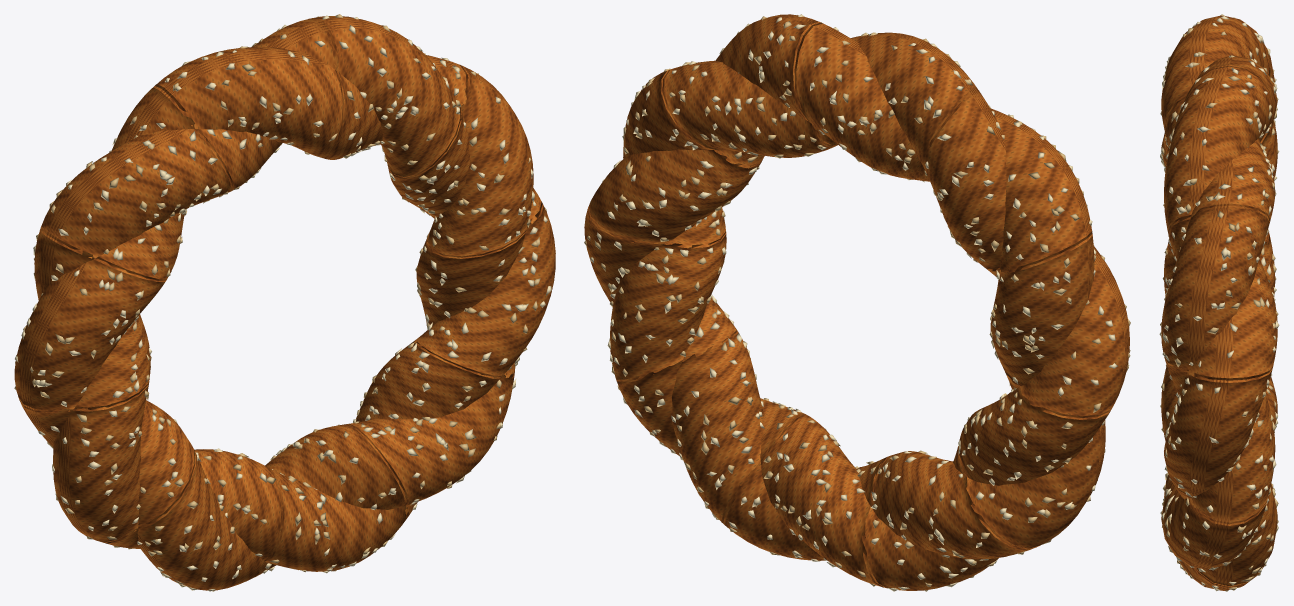
The model's file is simit.glb.
The picture shows the model from 3 angles, left to right: view 1: azimuth 30°, elevation 25°; view 2: azimuth 150°, elevation 25°; view 3: azimuth 270°, elevation 25°; orthographic projection. The views are drawn at different scales.
Parts seen in each view (by area): view 1: SimitSeg_5, SimitSeg_4, SimitSeg_6, SimitSeg_7, SimitSeg_0, SimitSeg_3, SimitSeg_9, SimitSeg_2, SimitSeg_1, SimitSeg_8; view 2: SimitSeg_5, SimitSeg_6, SimitSeg_4, SimitSeg_7, SimitSeg_0, SimitSeg_3, SimitSeg_9, SimitSeg_2, SimitSeg_1, SimitSeg_8; view 3: SimitSeg_2, SimitSeg_3, SimitSeg_1, SimitSeg_0, SimitSeg_4, SimitSeg_8, SimitSeg_7, SimitSeg_6, SimitSeg_9, SimitSeg_5.
Part boxes in pixels (x1,y1,x2,y2): SimitSeg_5: [40, 84, 233, 281]; SimitSeg_4: [151, 18, 345, 191]; SimitSeg_6: [14, 225, 166, 413]; SimitSeg_7: [18, 376, 195, 543]; SimitSeg_0: [347, 339, 516, 518]; SimitSeg_3: [309, 14, 470, 179]; SimitSeg_9: [246, 423, 409, 581]; SimitSeg_2: [388, 65, 543, 258]; SimitSeg_1: [414, 201, 555, 378]; SimitSeg_8: [93, 448, 284, 591]; SimitSeg_5: [919, 88, 1092, 272]; SimitSeg_6: [987, 231, 1130, 419]; SimitSeg_4: [793, 21, 980, 182]; SimitSeg_7: [958, 375, 1114, 550]; SimitSeg_0: [615, 328, 805, 527]; SimitSeg_3: [661, 14, 837, 168]; SimitSeg_9: [721, 413, 886, 588]; SimitSeg_2: [587, 68, 763, 248]; SimitSeg_1: [584, 207, 738, 383]; SimitSeg_8: [862, 440, 1039, 591]; SimitSeg_2: [1159, 203, 1279, 382]; SimitSeg_3: [1163, 64, 1276, 232]; SimitSeg_1: [1164, 358, 1276, 525]; SimitSeg_0: [1160, 477, 1278, 587]; SimitSeg_4: [1160, 14, 1278, 145]; SimitSeg_8: [1160, 368, 1277, 440]; SimitSeg_7: [1162, 235, 1276, 383]; SimitSeg_6: [1160, 120, 1279, 251]; SimitSeg_9: [1162, 472, 1276, 591]; SimitSeg_5: [1164, 46, 1276, 153].
Bounding box in the file's own units: 0.1775 × 0.1731 × 0.0369.
Materials: 3 (1 with a texture image).
